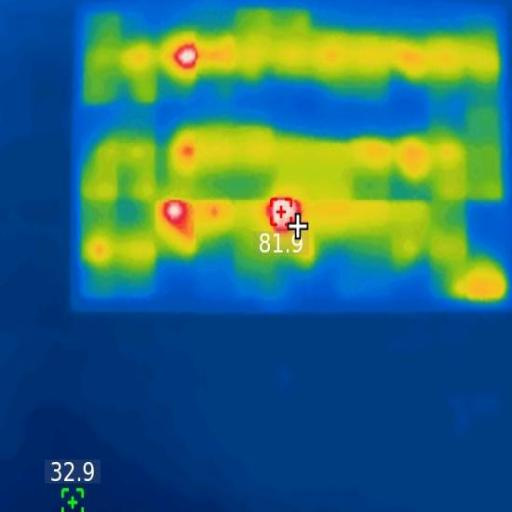hotspot: (267, 198, 303, 233), (174, 44, 199, 70), (166, 200, 188, 225)
